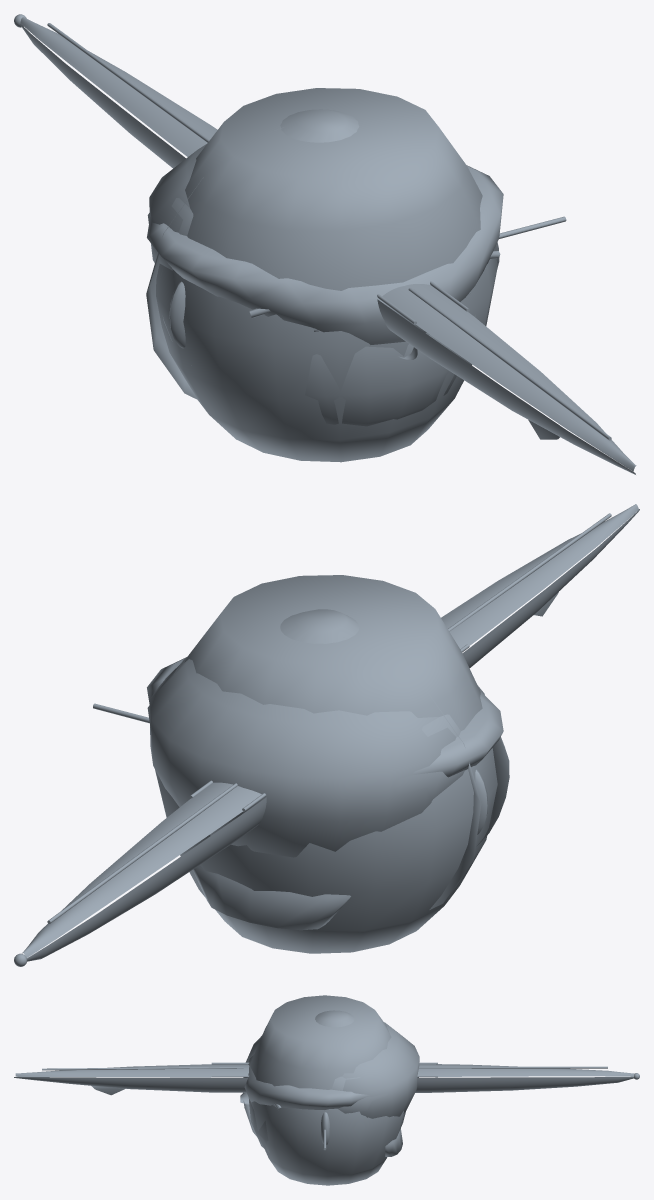
File: rowplay-rigs-v3.glb
3 views of the same model, one above another, from view 1: azimuth 30°, elevation 25°; view 2: azimuth 150°, elevation 25°; view 3: azimuth 270°, elevation 25° (orthographic). The views are drawn at different scales.
Parts seen in each view (by area): view 1: athlete:pelvis, athlete:torso, athlete:head, equipment:row:boat-assembly:stern-deck, equipment:row:boat-assembly:hull, equipment:row:boat-assembly:bow-deck, athlete:hair, equipment:row:boat-assembly:accent-strakes, athlete:thigh; view 2: athlete:pelvis, athlete:hair, equipment:row:boat-assembly:bow-deck, equipment:row:boat-assembly:hull, equipment:row:boat-assembly:stern-deck, athlete:torso, equipment:row:boat-assembly:accent-strakes, athlete:helmet, athlete:thigh, athlete:shoulder; view 3: athlete:pelvis, equipment:row:boat-assembly:hull, athlete:hair, athlete:torso, equipment:row:boat-assembly:stern-deck, equipment:row:boat-assembly:bow-deck, equipment:row:boat-assembly:accent-strakes, athlete:head, athlete:helmet, equipment:row:boat-assembly:gunwales.
Part boxes in pixels (box(x1,y1,x2,y2)): athlete:pelvis: box(156, 88, 497, 462); athlete:torso: box(147, 165, 503, 344); athlete:head: box(169, 281, 475, 426); equipment:row:boat-assembly:stern-deck: box(382, 284, 636, 471); equipment:row:boat-assembly:hull: box(20, 24, 635, 474); equipment:row:boat-assembly:bow-deck: box(20, 17, 217, 156); athlete:hair: box(149, 109, 359, 262); equipment:row:boat-assembly:accent-strakes: box(14, 14, 611, 440); athlete:thigh: box(146, 127, 283, 399); athlete:pelvis: box(155, 575, 497, 953); athlete:hair: box(149, 609, 456, 930); equipment:row:boat-assembly:bow-deck: box(22, 782, 261, 957); equipment:row:boat-assembly:hull: box(27, 509, 639, 961); equipment:row:boat-assembly:stern-deck: box(441, 504, 638, 648); athlete:torso: box(147, 658, 503, 777); equipment:row:boat-assembly:accent-strakes: box(14, 513, 611, 966); athlete:helmet: box(147, 656, 464, 800); athlete:thigh: box(348, 639, 481, 909); athlete:shoulder: box(477, 685, 509, 845); athlete:pelvis: box(248, 995, 405, 1185); equipment:row:boat-assembly:hull: box(14, 1077, 633, 1092); athlete:hair: box(315, 1010, 419, 1156); athlete:torso: box(243, 1055, 370, 1109); equipment:row:boat-assembly:stern-deck: box(15, 1064, 249, 1077); equipment:row:boat-assembly:bow-deck: box(417, 1064, 634, 1076); equipment:row:boat-assembly:accent-strakes: box(42, 1066, 639, 1079); athlete:head: box(240, 1093, 329, 1152); athlete:helmet: box(261, 1076, 387, 1117); equipment:row:boat-assembly:gunwales: box(211, 1062, 437, 1077).
Size of the model in its own units: 2.94 by 2.08 by 7.85.
